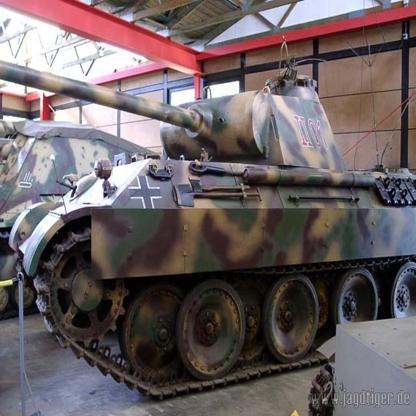Tank: (1, 52, 416, 400)
